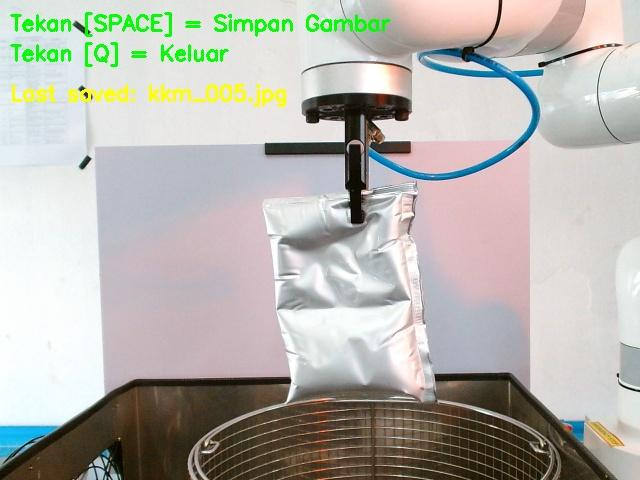retort-pouch: (262, 180, 439, 406), (264, 184, 435, 401)
